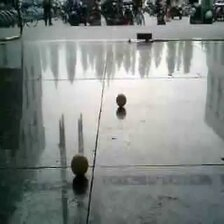w: (70, 154, 89, 176), (116, 94, 127, 107)
